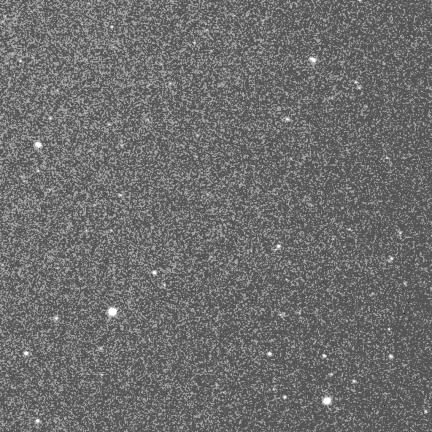blob: (108, 308, 117, 316), (323, 397, 332, 405), (35, 142, 42, 148), (309, 57, 316, 63), (389, 354, 394, 359), (24, 351, 29, 356), (163, 283, 167, 288), (152, 270, 156, 275), (268, 352, 272, 357), (277, 244, 281, 248), (322, 354, 326, 358), (36, 419, 40, 423), (283, 395, 287, 399), (388, 328, 391, 332), (424, 410, 428, 413), (352, 380, 356, 383), (111, 25, 114, 29), (49, 117, 52, 120), (330, 373, 333, 376)
